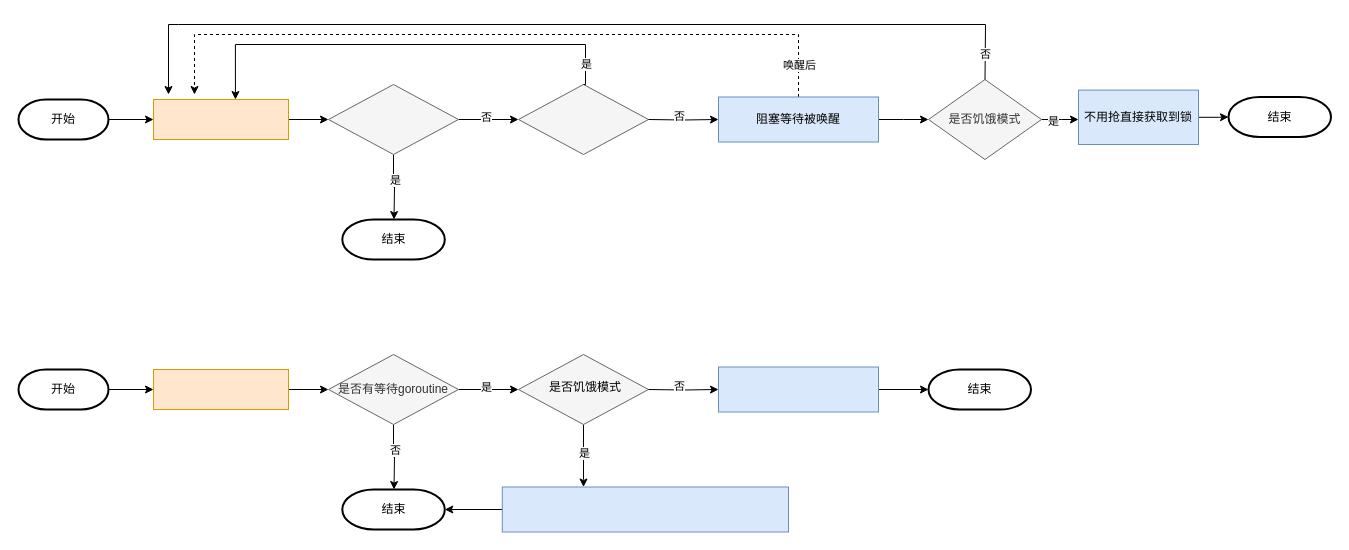
Some shapes in this 1349 by 550 pixel diagram are drawn without their labels. Each missing label, with the box of its shape:
唤醒等待者: (718, 366, 878, 412)
唤醒等待者，并让当前等待继承时间片立刻执行: (501, 486, 788, 532)
是否成功: (328, 84, 458, 154)
满足自旋条件: (518, 84, 648, 154)
通过原子操作Add解锁: (152, 368, 288, 410)
通过原子操作CAS获取锁: (152, 98, 288, 140)
